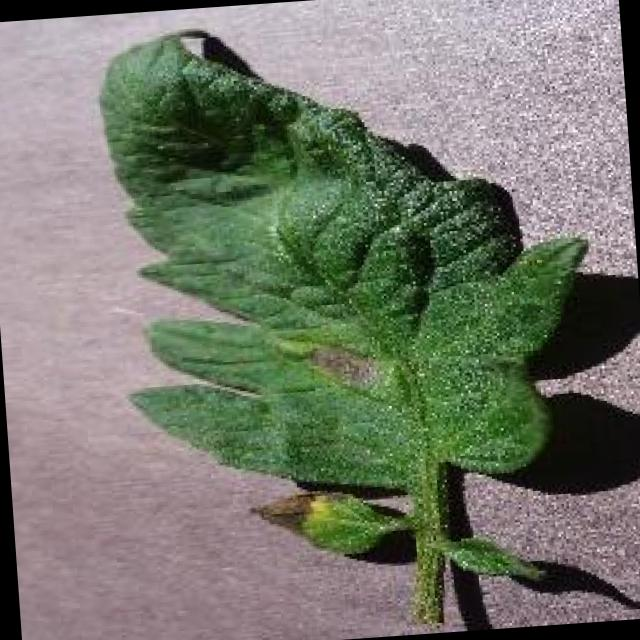Tomato_Early_Blight: (228, 286, 408, 588)
